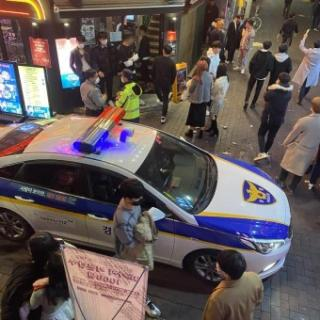Police_car: (0, 107, 292, 287)
